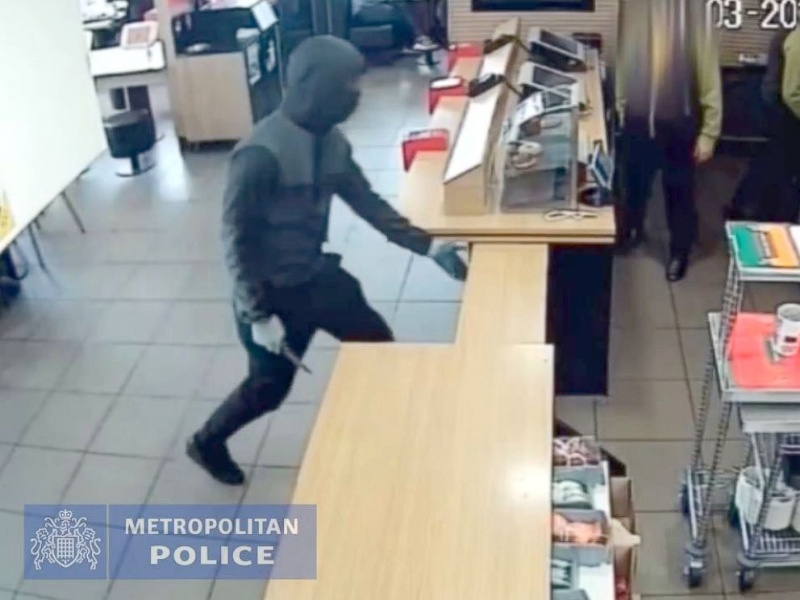balaclava: (280, 34, 366, 131)
hand: (247, 317, 289, 354), (429, 242, 468, 281)
knife: (277, 339, 316, 374)
person: (188, 34, 467, 486), (608, 1, 722, 282)
